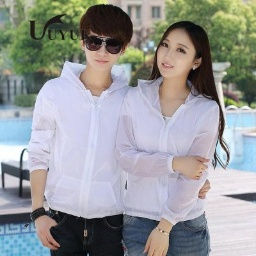face: (153, 17, 214, 92), (78, 4, 134, 74)
